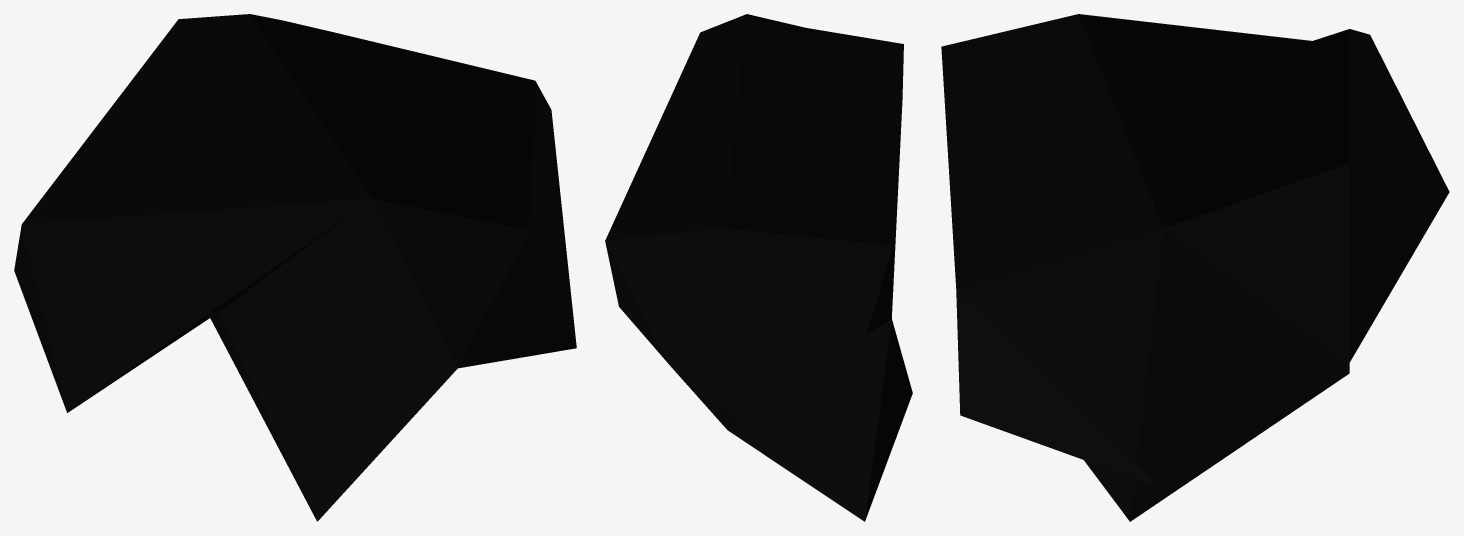
The picture shows the model from 3 angles, left to right: view 1: azimuth 30°, elevation 25°; view 2: azimuth 150°, elevation 25°; view 3: azimuth 270°, elevation 25°; orthographic projection. The views are drawn at different scales.
Bounding box in the file's own units: 0.0609 × 0.0584 × 0.057.
Materials: 1 (1 with a texture image).
